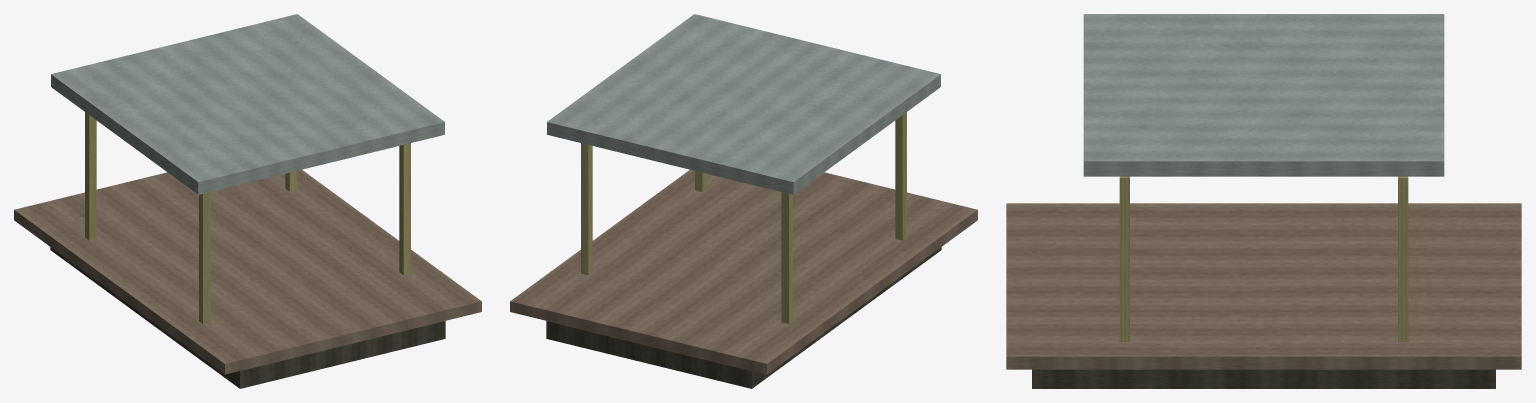
The model's file is bung-raft-0-grey-lod.glb.
3 renders of one model, left to right at view 1: azimuth 30°, elevation 25°; view 2: azimuth 150°, elevation 25°; view 3: azimuth 270°, elevation 25°, orthographic. The views are drawn at different scales.
Visible parts, largest first — view 1: bung-raft-0-grey-lod; view 2: bung-raft-0-grey-lod; view 3: bung-raft-0-grey-lod.
Boxes of the visible parts, x1,y1,x2,y2 form: bung-raft-0-grey-lod: [14, 14, 481, 388]; bung-raft-0-grey-lod: [510, 14, 977, 388]; bung-raft-0-grey-lod: [1006, 14, 1521, 388].
Size of the model in its own units: 3.8 by 2.78 by 5.4.
1 material, 1 textured.
